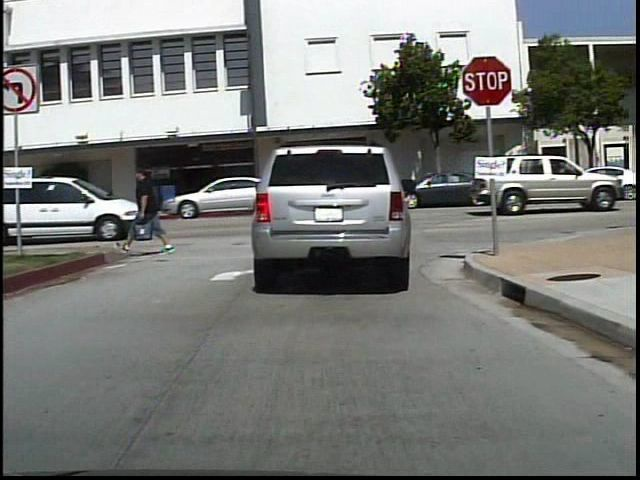person: (123, 161, 178, 257), (54, 173, 78, 217), (79, 174, 102, 217)
